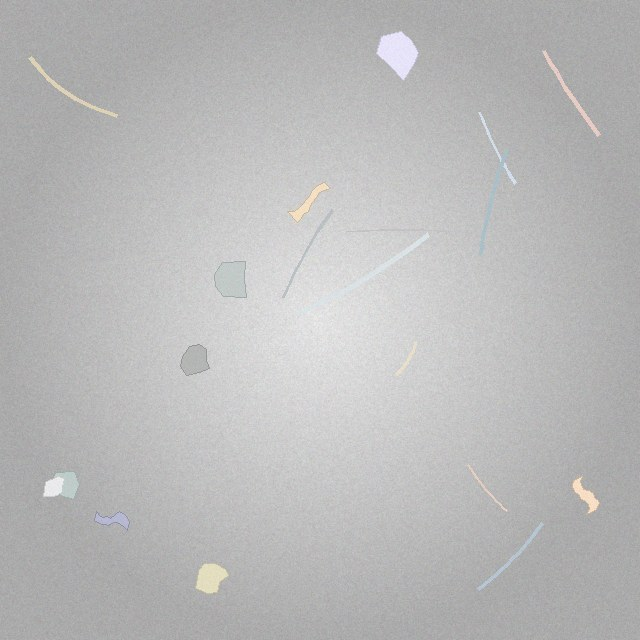fiber: (292, 229, 434, 319), (25, 53, 121, 120), (540, 47, 603, 139), (475, 520, 546, 593), (280, 207, 335, 301), (476, 146, 511, 259), (476, 108, 519, 188), (466, 462, 509, 513), (344, 227, 481, 235), (393, 338, 419, 378)
film: (288, 182, 330, 222), (573, 476, 600, 514), (94, 511, 129, 530)
fragment: (376, 32, 418, 80), (215, 262, 246, 298), (195, 563, 229, 593), (49, 472, 79, 500), (181, 345, 209, 375), (44, 476, 65, 497)
